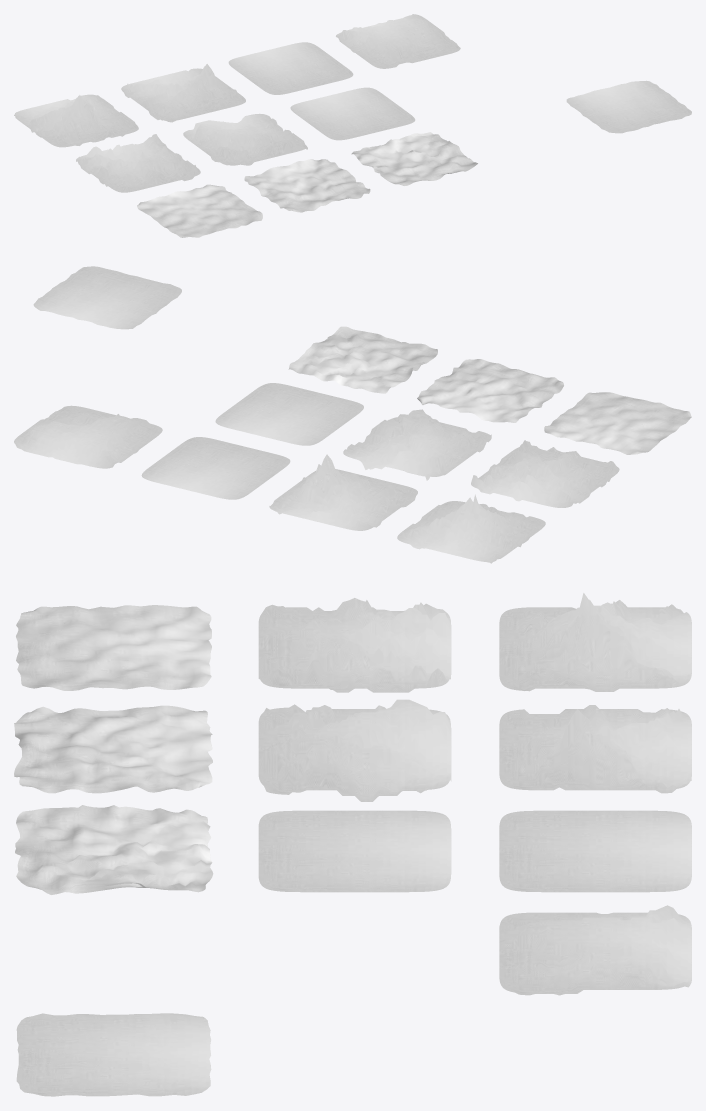
Rendered from terrain-map-edit.obj.
3 renders of one model, top to bottom at view 1: azimuth 30°, elevation 25°; view 2: azimuth 150°, elevation 25°; view 3: azimuth 270°, elevation 25°, orthographic. The views are drawn at different scales.
Visible parts, largest first — view 1: Snowy_Rock, Desert_Mountains, WhiteSpace_1, Desert_Plain, Desert_Plain1, White1, Water, Desert_Rock, White, White2, Savanna1, Savanna; view 2: Desert_Mountains, Desert_Rock, Snowy_Rock, White1, White2, White, Water, WhiteSpace_1, Desert_Plain1, Desert_Plain, Savanna1, Savanna; view 3: Desert_Rock, Snowy_Rock, WhiteSpace_1, Desert_Plain1, Desert_Plain, White, White2, Water, Desert_Mountains, White1, Savanna1, Savanna.
Boxes of the visible parts, x1,y1,x2,y2 form: Snowy_Rock: (76,134,200,192); Desert_Mountains: (121,64,245,122); WhiteSpace_1: (14,94,138,147); Desert_Plain: (244,159,370,212); Desert_Plain1: (137,184,262,237); White1: (336,14,460,68); Water: (566,80,691,133); Desert_Rock: (183,113,307,165); White: (290,87,415,140); White2: (228,42,353,94); Savanna1: (351,132,477,185); Savanna: (360,135,469,174); Desert_Mountains: (269,454,417,530); Desert_Rock: (343,409,491,480); Snowy_Rock: (471,440,619,507); White1: (14,405,162,468); White2: (141,437,290,499); White: (215,383,363,445); Water: (33,266,181,329); WhiteSpace_1: (397,494,545,563); Desert_Plain1: (544,392,691,454); Desert_Plain: (417,359,563,422); Savanna1: (288,326,437,393); Savanna: (294,334,425,391); Desert_Rock: (258,699,451,801); Snowy_Rock: (258,598,451,692); WhiteSpace_1: (499,593,691,691); Desert_Plain1: (16,605,211,690); Desert_Plain: (14,705,212,793); White: (258,810,451,892); White2: (499,810,691,892); Water: (16,1013,211,1096); Desert_Mountains: (499,705,691,793); White1: (499,905,691,995); Savanna1: (15,806,213,894); Savanna: (35,805,210,892).
Size of the model in its own units: 24.06 by 1.67 by 14.08.
1 material, 1 textured.
